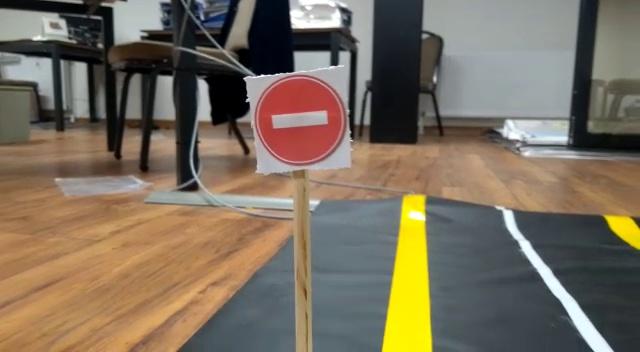girisi_olmayan_yol: (246, 66, 348, 169)
